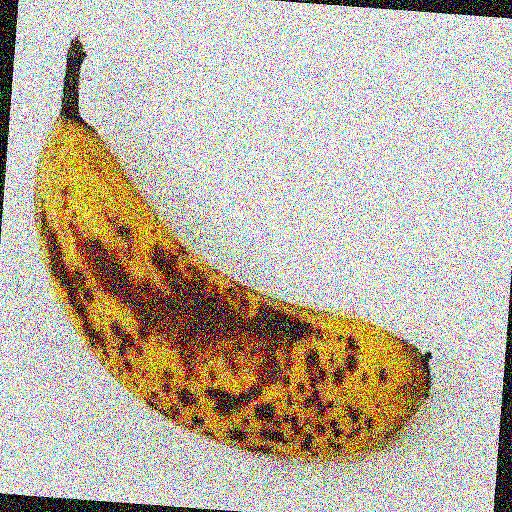fruit: (4, 92, 69, 373)
